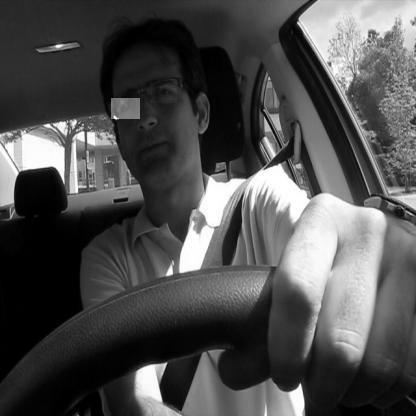seatbelt: (77, 1, 306, 400)
